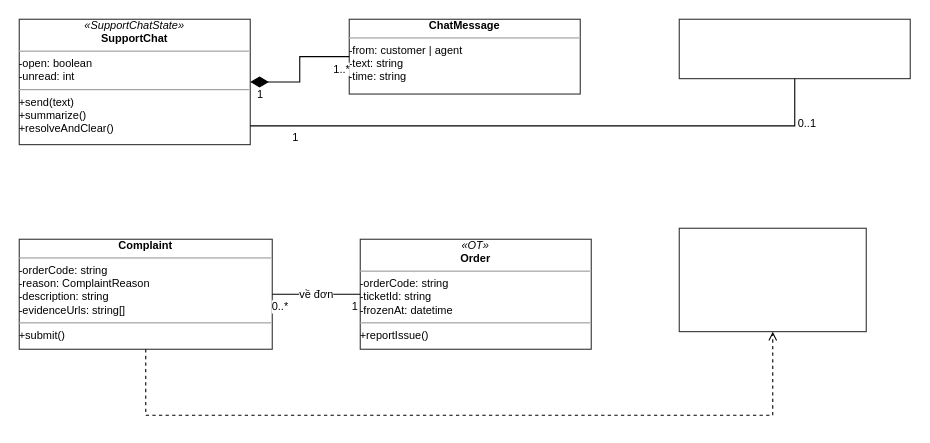
This 930x443 diagram has some shape labels left out. Each missing label, with the box of its shape:
ConversationSummary -text: string -mode: ai | local: (678, 18, 910, 79)
«enumeration» ComplaintReason Sai màu In lệch Hư hỏng Sai dòng máy: (678, 227, 866, 332)
